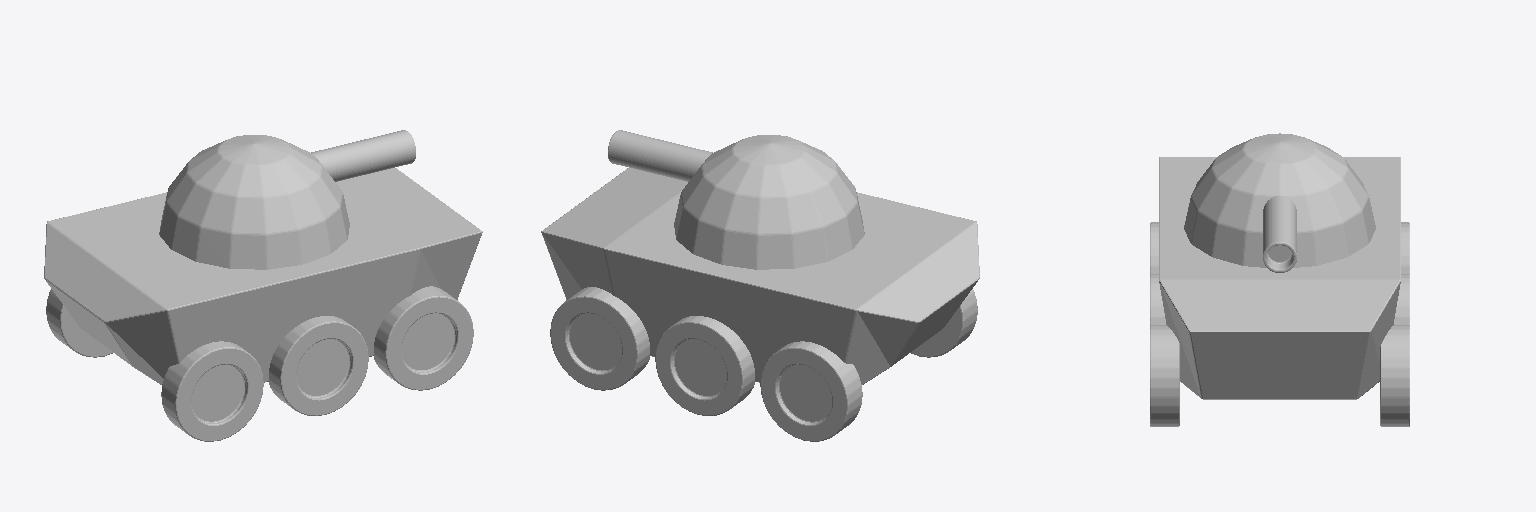
The model's file is WarLight.obj.
The picture shows the model from 3 angles: view 1: azimuth 30°, elevation 25°; view 2: azimuth 150°, elevation 25°; view 3: azimuth 270°, elevation 25°; orthographic projection.
Visible parts, largest first — view 1: Cube.001; view 2: Cube.001; view 3: Cube.001.
Boxes of the visible parts, <box> form: Cube.001: <box>44,130,482,441</box>; Cube.001: <box>541,130,979,441</box>; Cube.001: <box>1150,133,1409,426</box>.
Bounding box in the file's own units: 3.46 × 2.05 × 2.15.